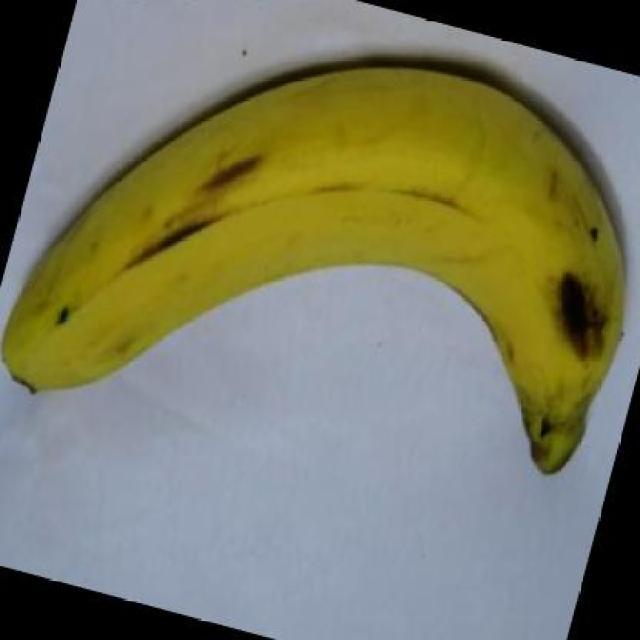ripe: (0, 34, 640, 501)
